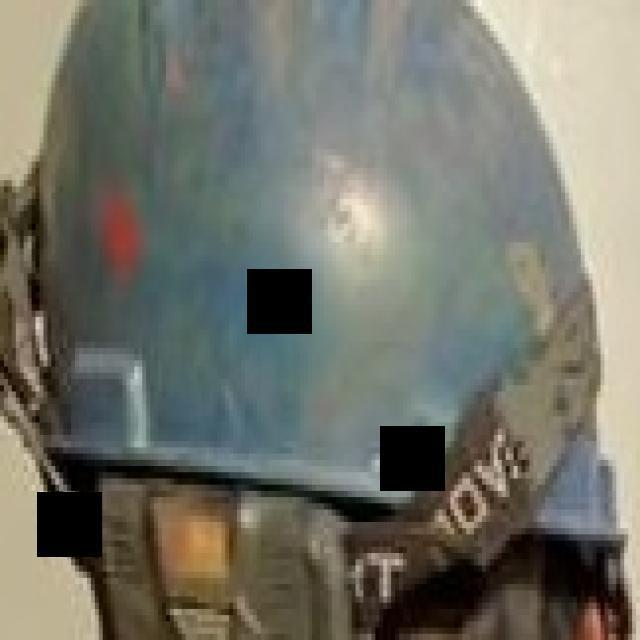blue helmet: (19, 7, 618, 544)
